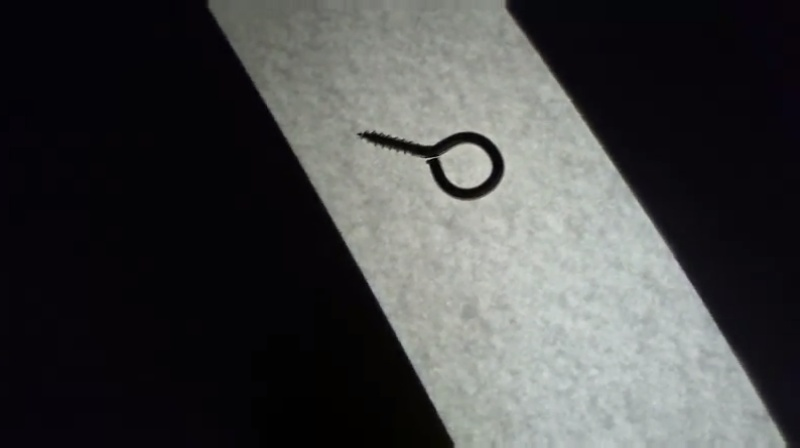O001: (353, 128, 507, 200)
